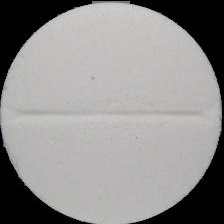54868-3319: (0, 0, 224, 224)
